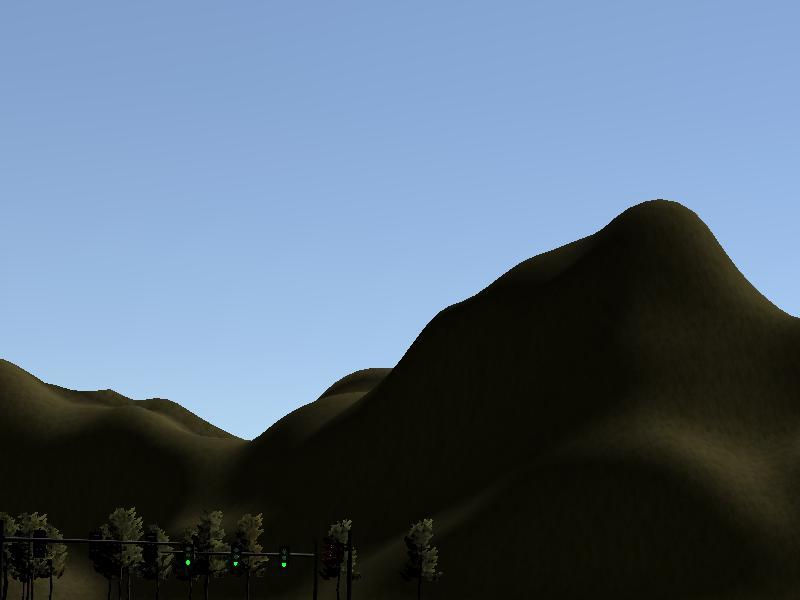Green: (180, 544, 194, 573), (229, 544, 242, 573), (276, 547, 289, 573)
